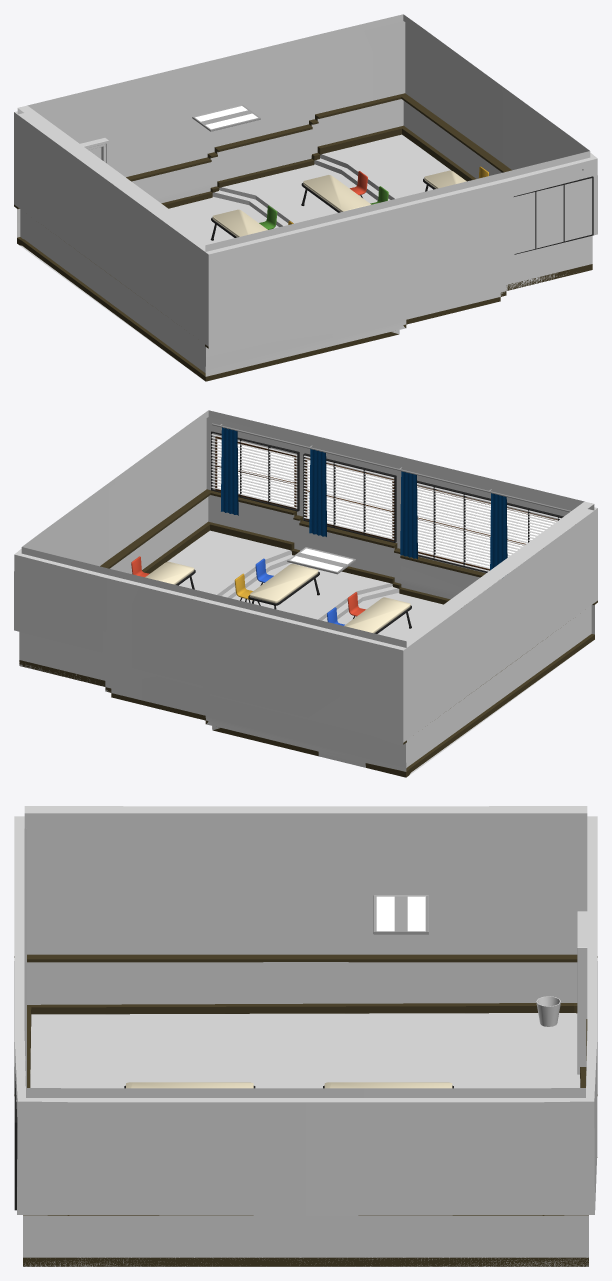
Rendered from classroom.fbx.
3 views of the same model, one above another, from view 1: azimuth 30°, elevation 25°; view 2: azimuth 150°, elevation 25°; view 3: azimuth 270°, elevation 25° (orthographic). The views are drawn at different scales.
Visible parts, largest first — view 1: Floor.011, Floor.008, Floor.006, Floor.009, Floor.002, Floor, Desk1.003, Plane.014, Desk1.001, Plane.011, Desk1.004; view 2: Floor.011, Floor.008, Floor.006, Floor.009, Floor.002, Plane.008, Floor.004, Floor.003, Plane.010, Plane.012, Floor.001, Floor (+14 smaller); view 3: Floor.011, Floor.008, Floor.009, Floor.006, Floor.002, Floor, Plane.014, Door, Desk1, Desk1.001, Cylinder.005, Circle.
Part boxes in pixels (x1,y1,x2,y2): Floor.011: (14, 21, 597, 346); Floor.008: (17, 99, 592, 376); Floor.006: (14, 14, 597, 254); Floor.009: (19, 134, 450, 380); Floor.002: (17, 125, 592, 381); Floor: (14, 93, 511, 348); Desk1.003: (301, 175, 370, 212); Plane.014: (192, 104, 260, 131); Desk1.001: (210, 209, 267, 240); Plane.011: (514, 176, 593, 254); Desk1.004: (423, 170, 466, 191); Floor.011: (14, 417, 597, 742); Floor.008: (19, 495, 594, 771); Floor.006: (14, 410, 597, 650); Floor.009: (167, 530, 592, 776); Floor.002: (19, 521, 594, 777); Plane.008: (417, 483, 490, 571); Floor.004: (417, 485, 490, 570); Floor.003: (305, 458, 394, 540); Plane.010: (303, 455, 394, 539); Plane.012: (211, 434, 297, 508); Floor.001: (215, 436, 296, 508); Floor: (100, 489, 597, 744); Floor.011: (14, 823, 597, 1215); Floor.008: (23, 962, 588, 1266); Floor.009: (30, 1013, 580, 1088); Floor.006: (14, 806, 597, 1102); Floor.002: (23, 1003, 588, 1266); Floor: (14, 954, 597, 1215); Plane.014: (373, 895, 428, 934); Door: (577, 911, 587, 1074); Desk1: (124, 1082, 255, 1088); Desk1.001: (323, 1082, 453, 1088); Cylinder.005: (24, 828, 26, 1087); Circle: (536, 996, 560, 1026).
Bounding box in the file's own units: 1235 × 411 × 1064.
